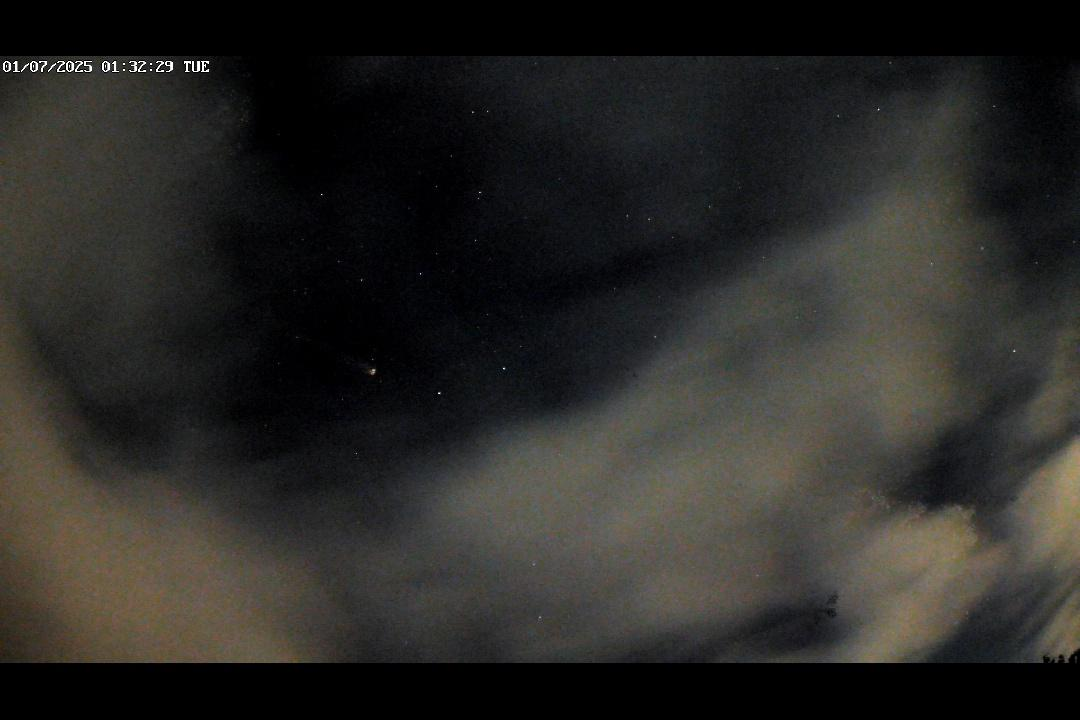Plane: (339, 353, 386, 382)
